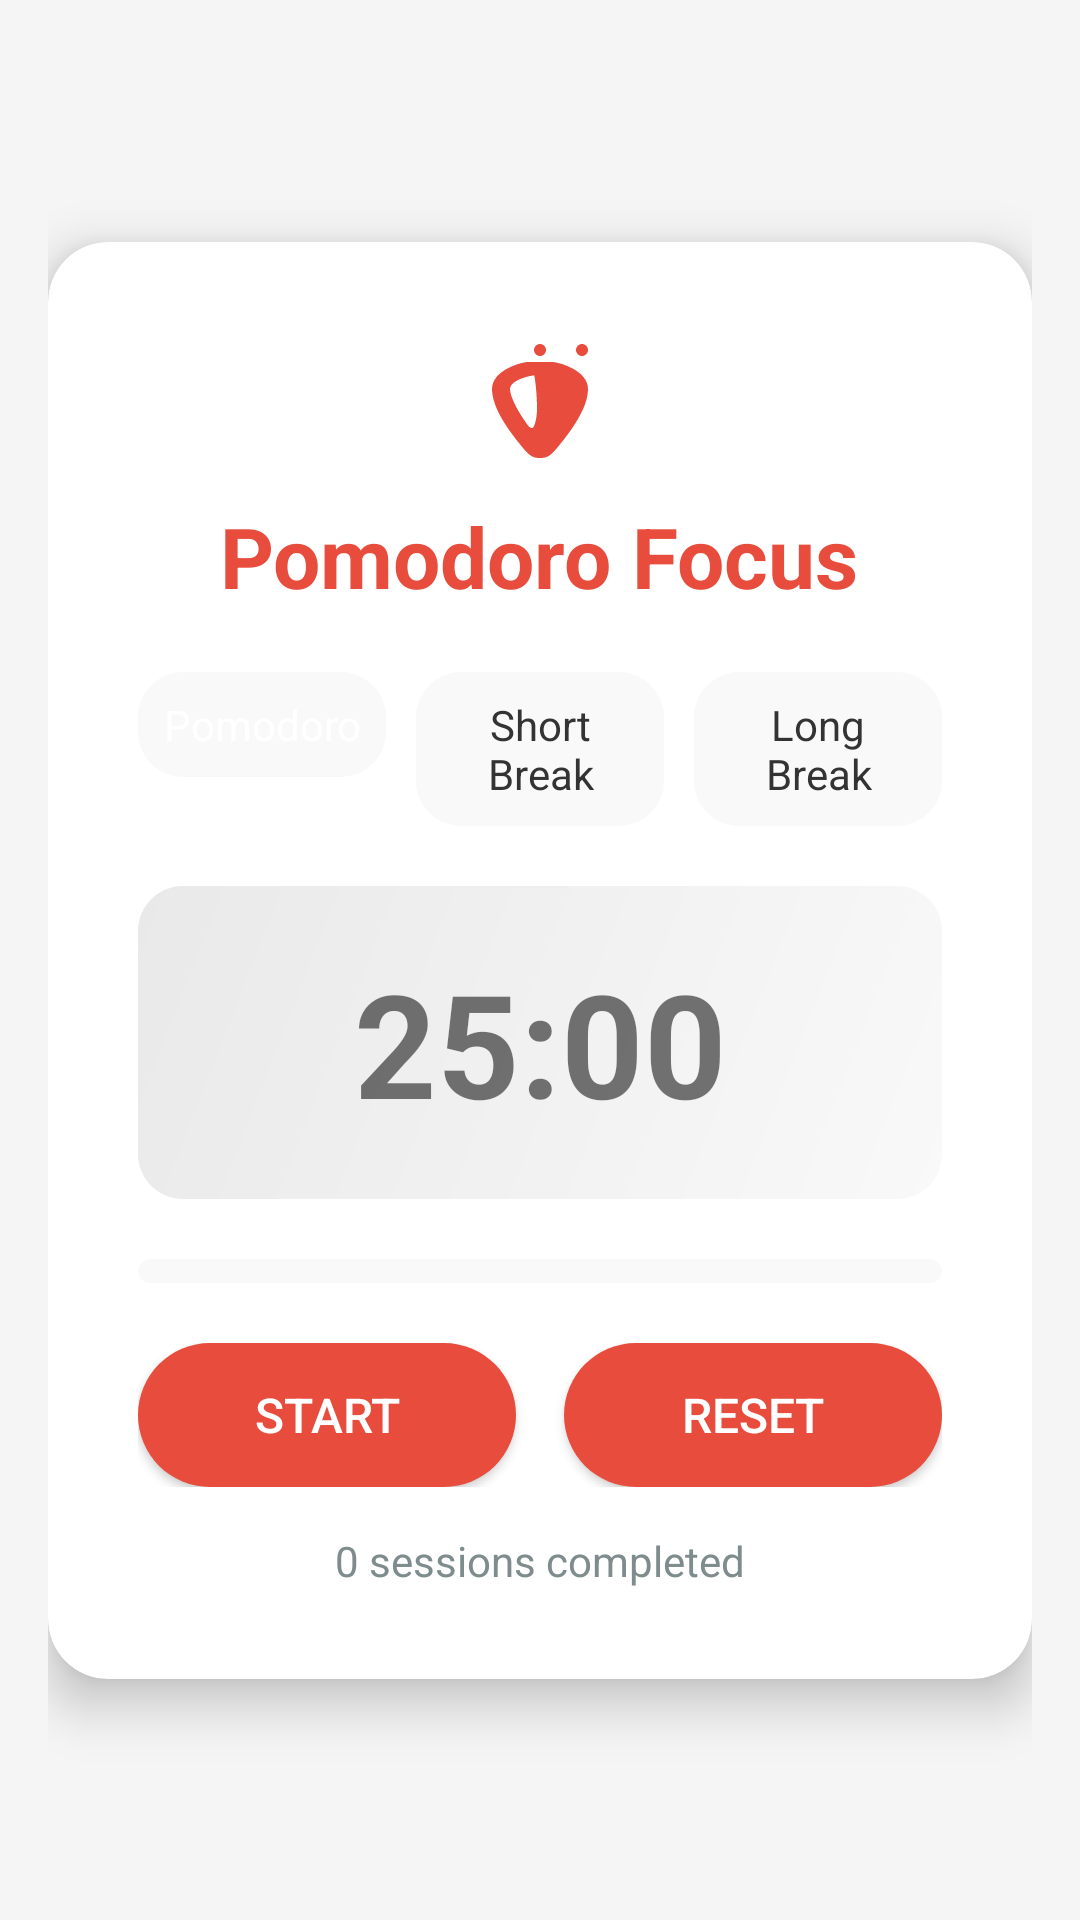

Icons on this 1080px x 1920px Android screen, each with the point to tap as (x,y):
Tomato icon: (540,401)
